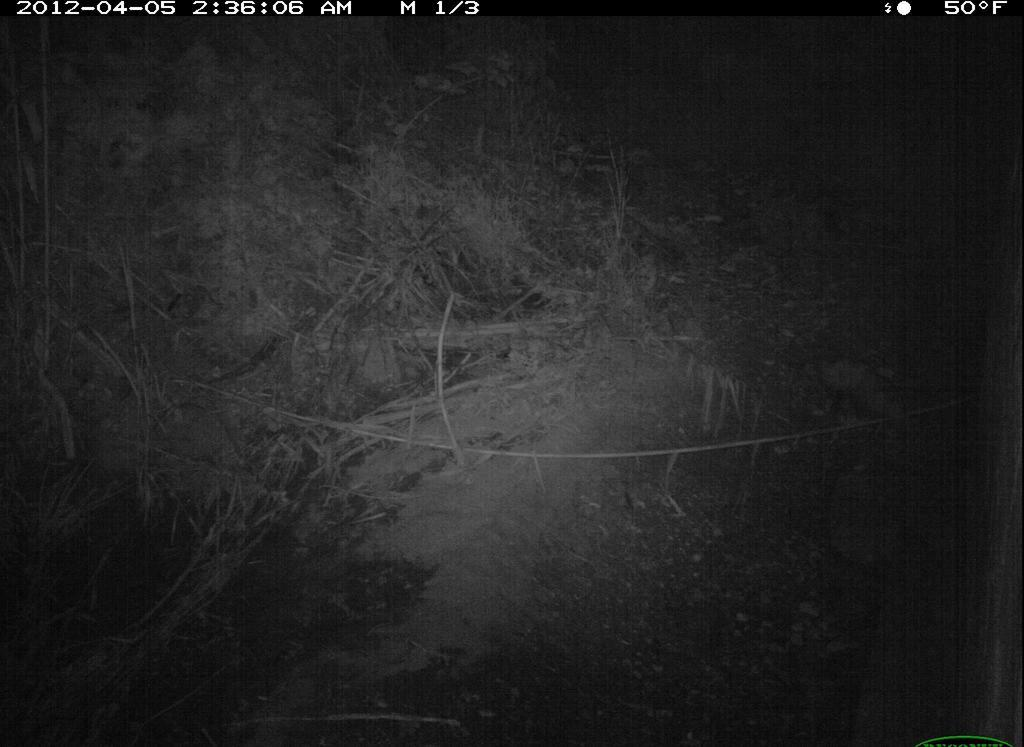opossum: (786, 347, 916, 437)
